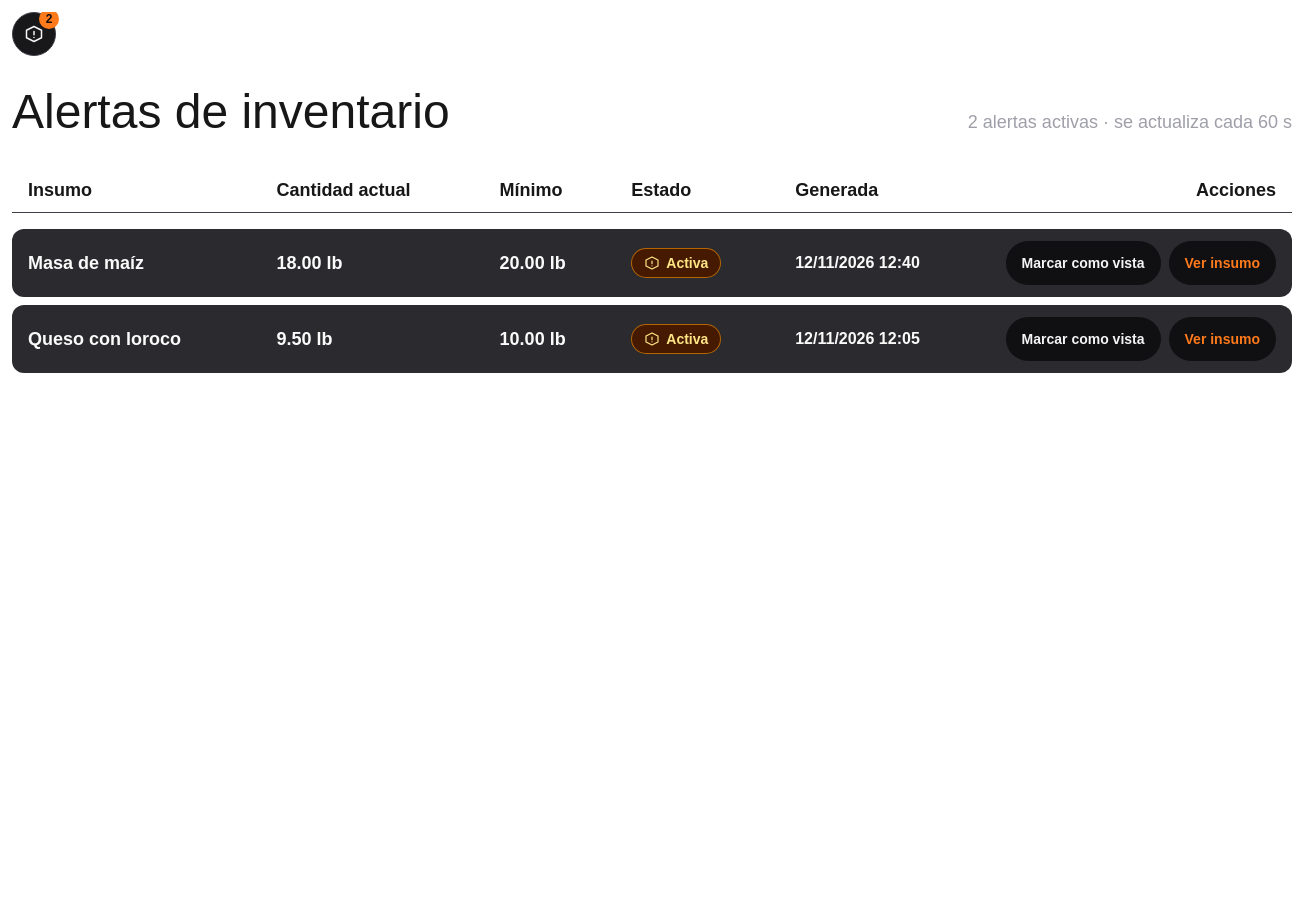
Test: panel de alertas (FE-15.1) › marcar como vista: deshabilita mientras envía, pasa a texto normal y baja el contador
Expected: the link named "Alertas de inventario, 2 alertas activas" is shown, [12,12,56,56]
What coordinates should you click on to do the following:
click the button with aria-label "Marcar como vista la alerta de Masa de maíz"
I would click on:
 (1083, 263)
Its box is [1006,241,1161,285].
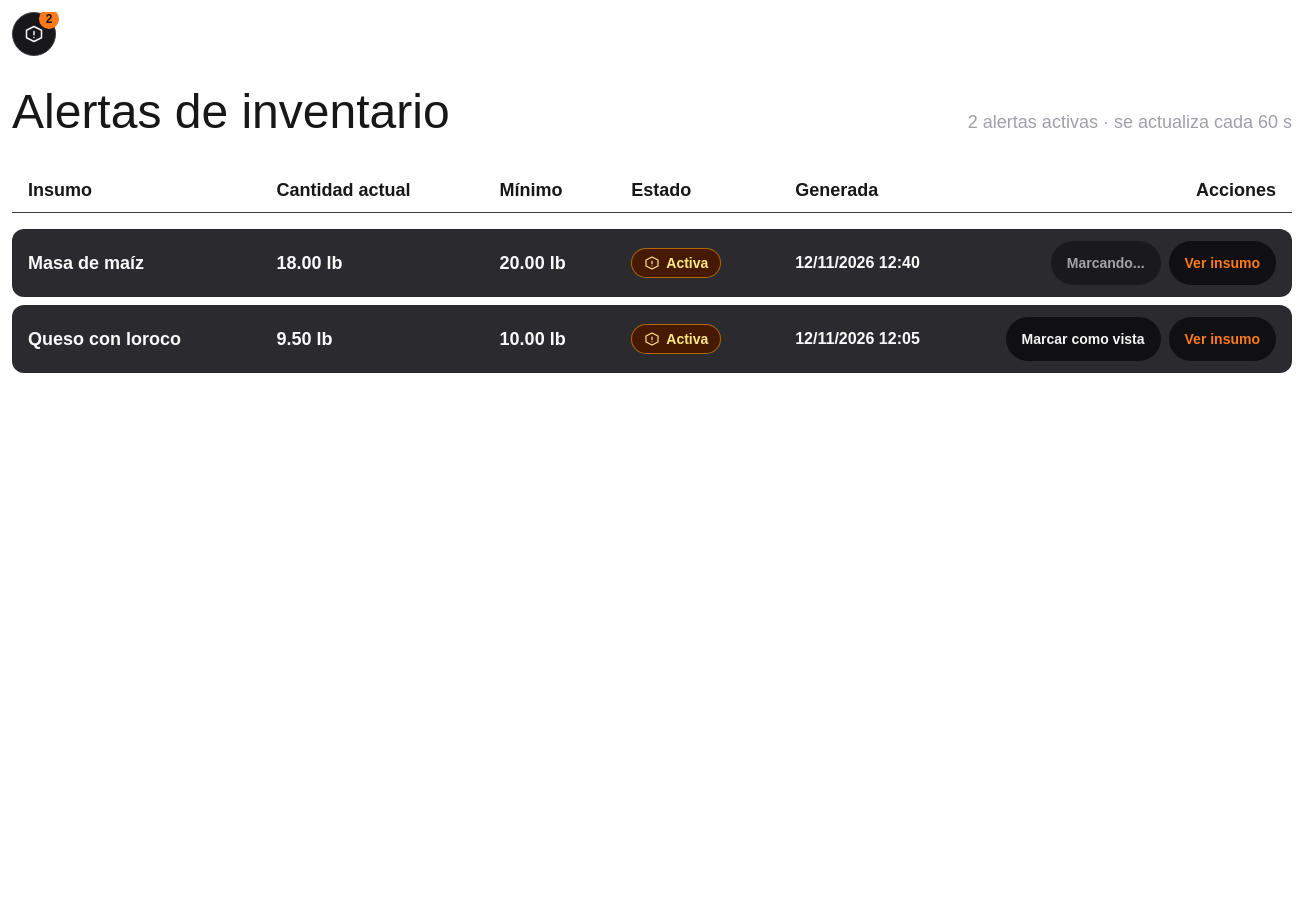
Expected: the button with aria-label "Marcar como vista la alerta de Masa de maíz" is disabled
What coordinates should you click on to do the following:
click the button with aria-label "Marcar como vista la alerta de Masa de maíz"
I would click on:
 (1106, 263)
Its box is [1051,241,1160,285].
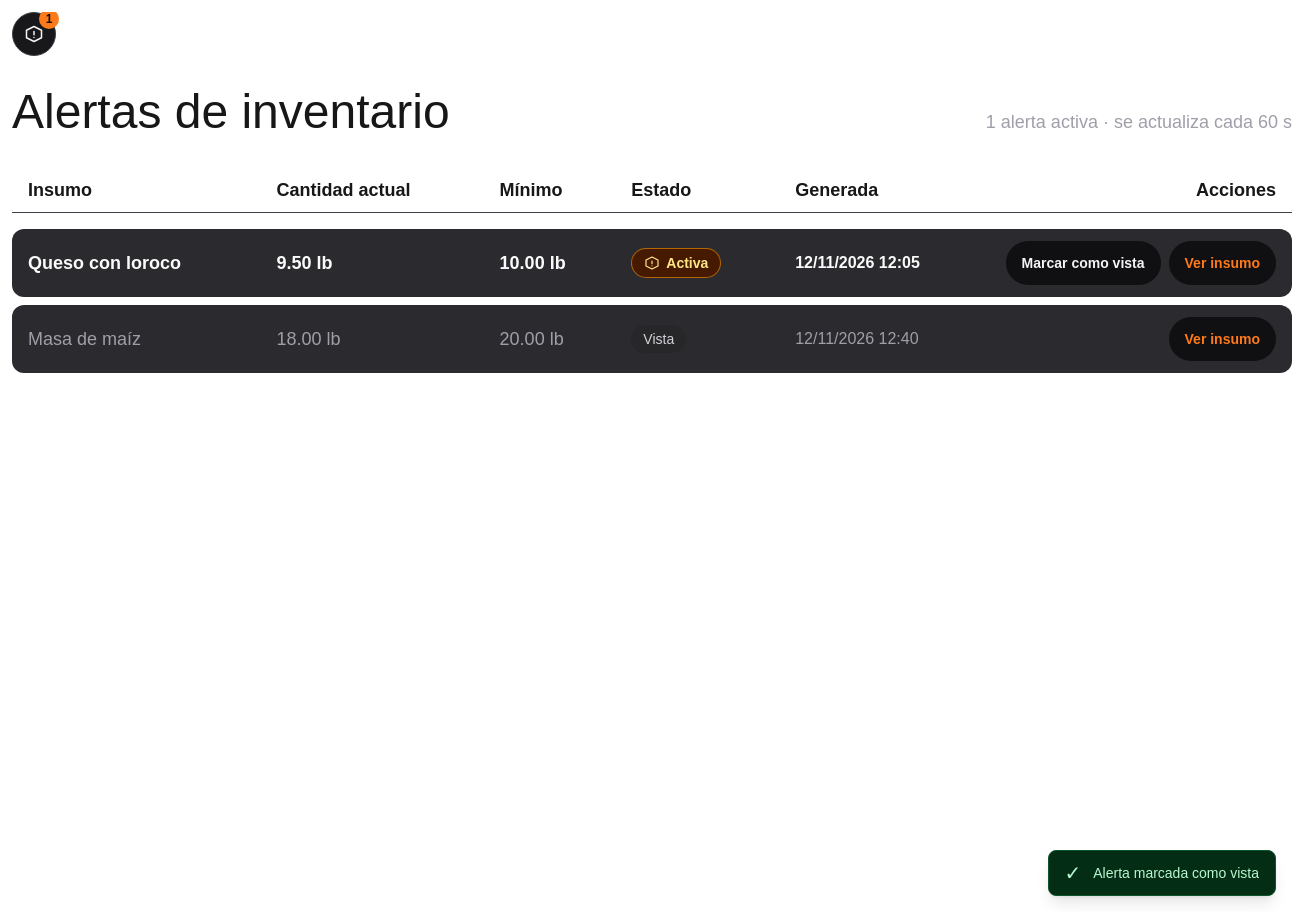
Expected: the cell "Vista" is shown, [615,305,779,373]
Expected: the text "1 alerta activa · se actualiza cada 60 s" is shown, [986,108,1292,136]
Expected: the text "Alerta marcada como vista" is shown, [1093,865,1259,881]
